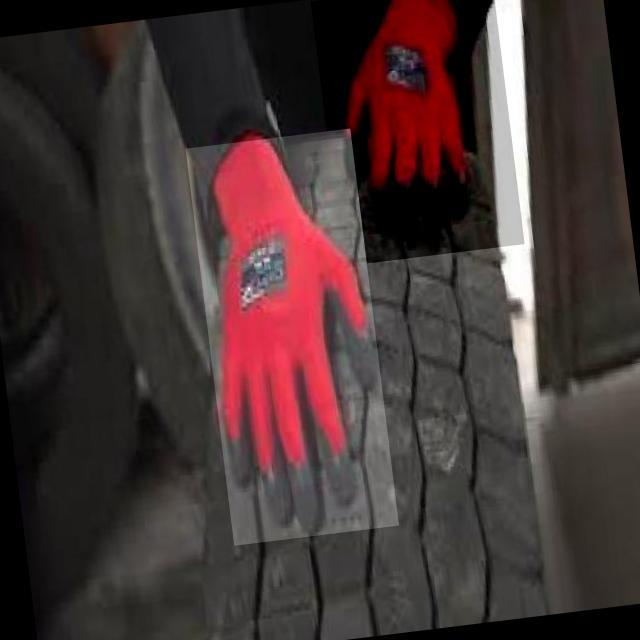Gloves: (185, 128, 399, 545), (310, 0, 524, 265)
